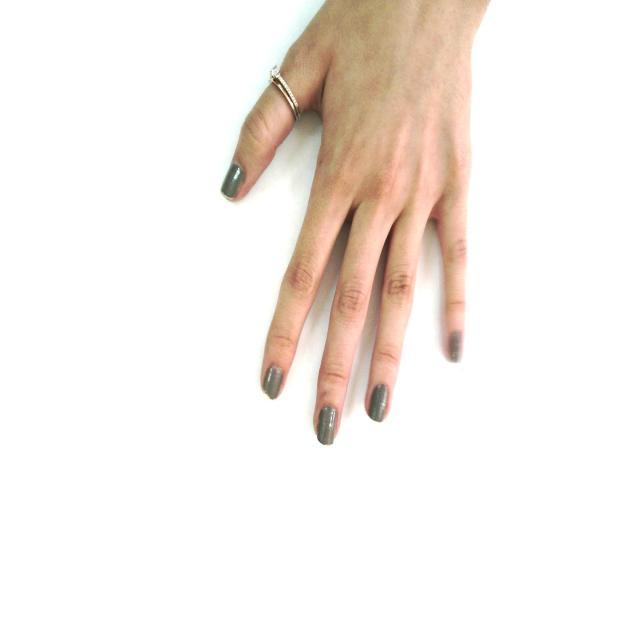Fingernail: (222, 163, 243, 198), (318, 407, 336, 446), (369, 384, 387, 421), (264, 366, 282, 397), (450, 332, 463, 363)
